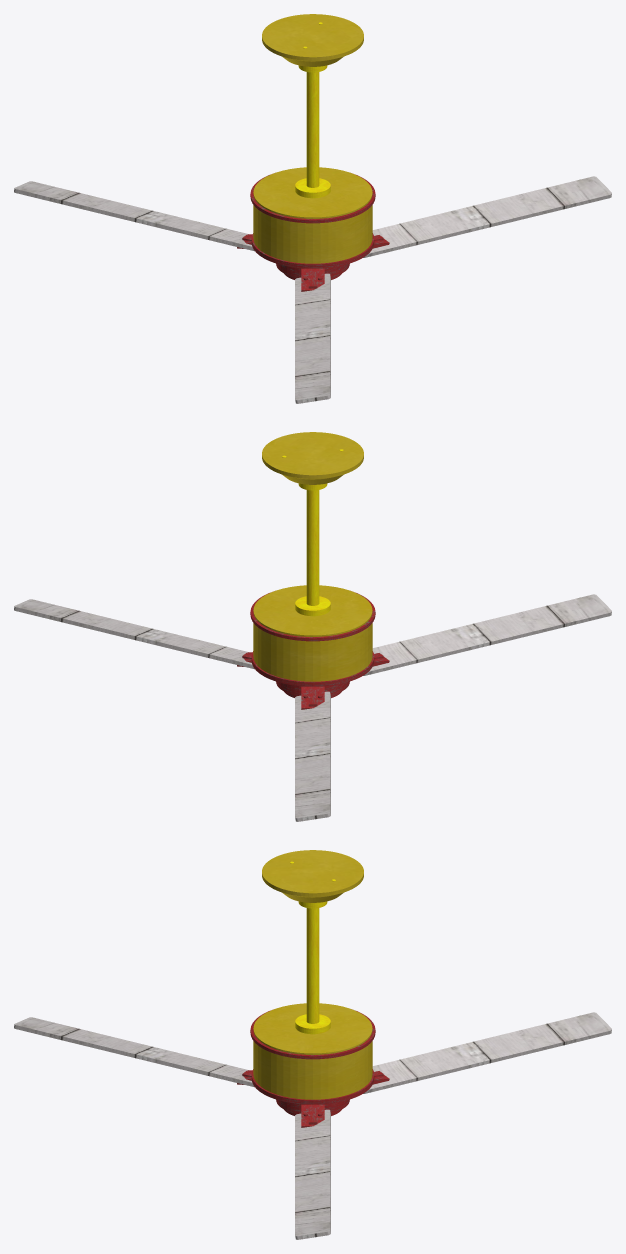
Rendered from ceiling_fan__0000.glb.
The picture shows the model from 3 angles, top to bottom: view 1: azimuth 30°, elevation 25°; view 2: azimuth 150°, elevation 25°; view 3: azimuth 270°, elevation 25°; orthographic projection.
Visible parts, largest first — view 1: motor_housing::motor_shell, blade_assembly::blade_surface_0, blade_assembly::blade_surface_2, ceiling_mount::bell_canopy, blade_assembly::blade_surface_1, ceiling_mount::downrod, motor_housing::upper_trim_ring, motor_housing::lower_trim_ring, ceiling_mount::lower_rod_collar; view 2: motor_housing::motor_shell, blade_assembly::blade_surface_2, blade_assembly::blade_surface_1, ceiling_mount::bell_canopy, blade_assembly::blade_surface_0, ceiling_mount::downrod, motor_housing::upper_trim_ring, motor_housing::lower_trim_ring, ceiling_mount::lower_rod_collar; view 3: motor_housing::motor_shell, blade_assembly::blade_surface_1, blade_assembly::blade_surface_0, ceiling_mount::bell_canopy, blade_assembly::blade_surface_2, ceiling_mount::downrod, motor_housing::upper_trim_ring, motor_housing::lower_trim_ring, ceiling_mount::lower_rod_collar.
Part boxes in pixels (box(x1,y1,x2,y2)): motor_housing::motor_shell: box(253, 167, 372, 263); blade_assembly::blade_surface_0: box(363, 176, 611, 257); blade_assembly::blade_surface_2: box(295, 273, 330, 403); ceiling_mount::bell_canopy: box(262, 14, 363, 66); blade_assembly::blade_surface_1: box(14, 181, 254, 251); ceiling_mount::downrod: box(306, 72, 319, 187); motor_housing::upper_trim_ring: box(250, 174, 375, 223); motor_housing::lower_trim_ring: box(251, 233, 374, 268); ceiling_mount::lower_rod_collar: box(295, 178, 330, 198); motor_housing::motor_shell: box(253, 585, 372, 681); blade_assembly::blade_surface_2: box(363, 594, 611, 675); blade_assembly::blade_surface_1: box(295, 691, 330, 821); ceiling_mount::bell_canopy: box(262, 432, 363, 484); blade_assembly::blade_surface_0: box(14, 599, 254, 669); ceiling_mount::downrod: box(306, 490, 319, 605); motor_housing::upper_trim_ring: box(250, 592, 375, 641); motor_housing::lower_trim_ring: box(251, 651, 374, 686); ceiling_mount::lower_rod_collar: box(295, 596, 330, 616); motor_housing::motor_shell: box(253, 1003, 372, 1099); blade_assembly::blade_surface_1: box(363, 1012, 611, 1093); blade_assembly::blade_surface_0: box(295, 1109, 330, 1239); ceiling_mount::bell_canopy: box(262, 850, 363, 902); blade_assembly::blade_surface_2: box(14, 1017, 254, 1087); ceiling_mount::downrod: box(306, 908, 319, 1023); motor_housing::upper_trim_ring: box(250, 1010, 375, 1059); motor_housing::lower_trim_ring: box(251, 1069, 374, 1104); ceiling_mount::lower_rod_collar: box(295, 1014, 330, 1034).
Bounding box in the file's own units: 1.52 × 0.779 × 1.76.
4 materials, 4 textured.
